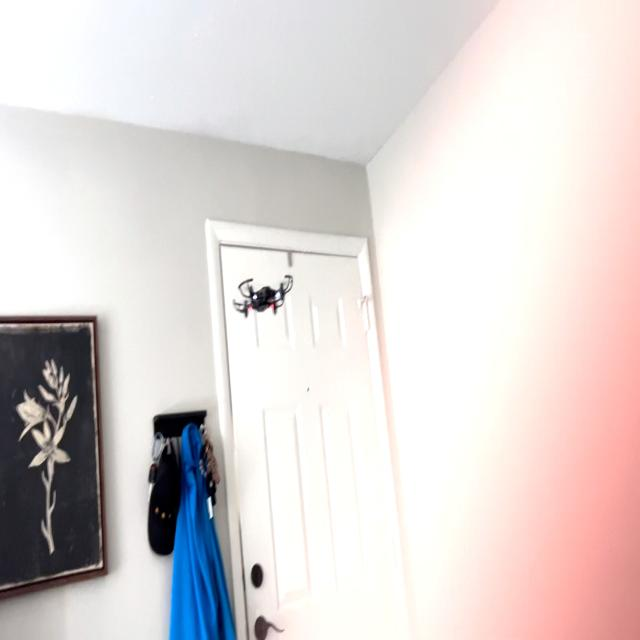drone: (215, 248, 303, 326)
